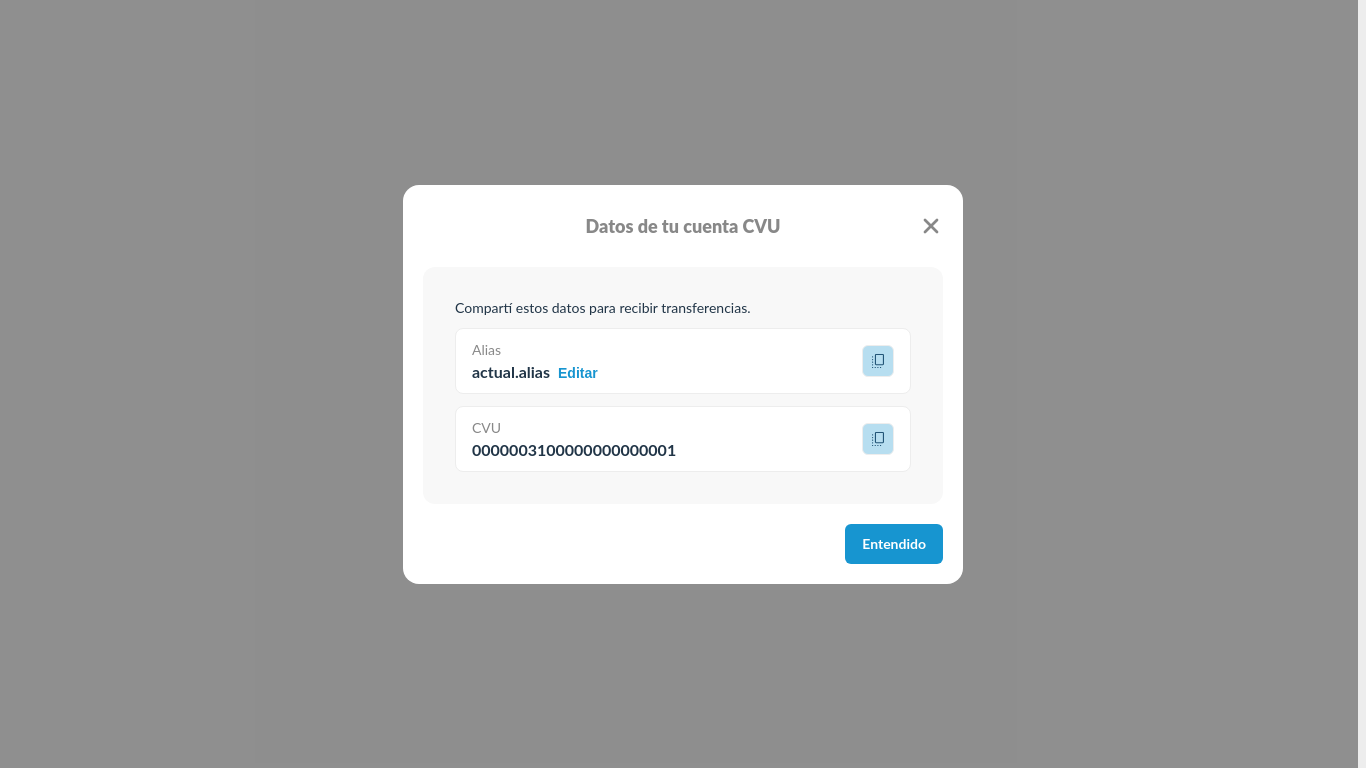
Scenario: AccountDetailsFlow › shows the API error and keeps the modal open
This screenshot has width=1366, height=768.
Click the button "Editar" at point(578, 372), box [558,364,598,380]
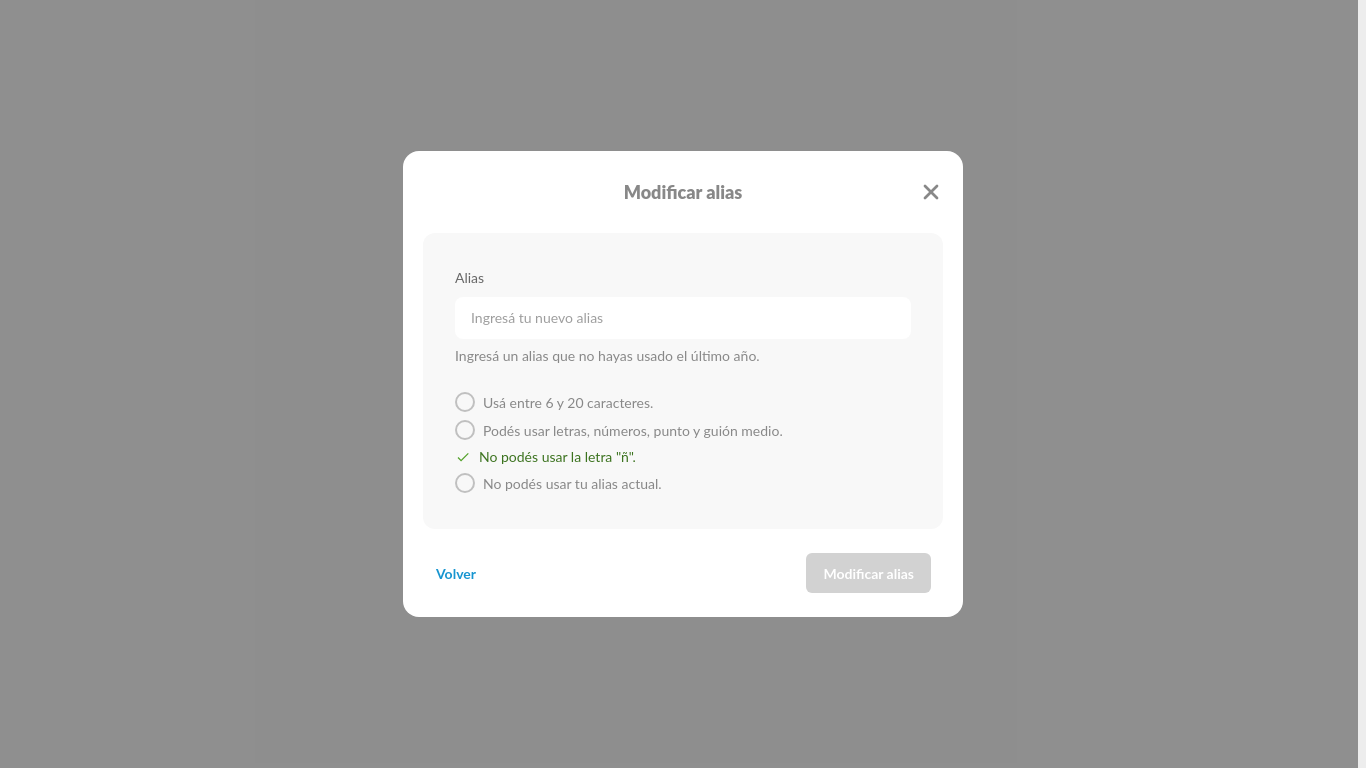
Type "otro.alias" into the field with placeholder "Ingresá tu nuevo alias" at point(683, 318), box [455,297,911,339]
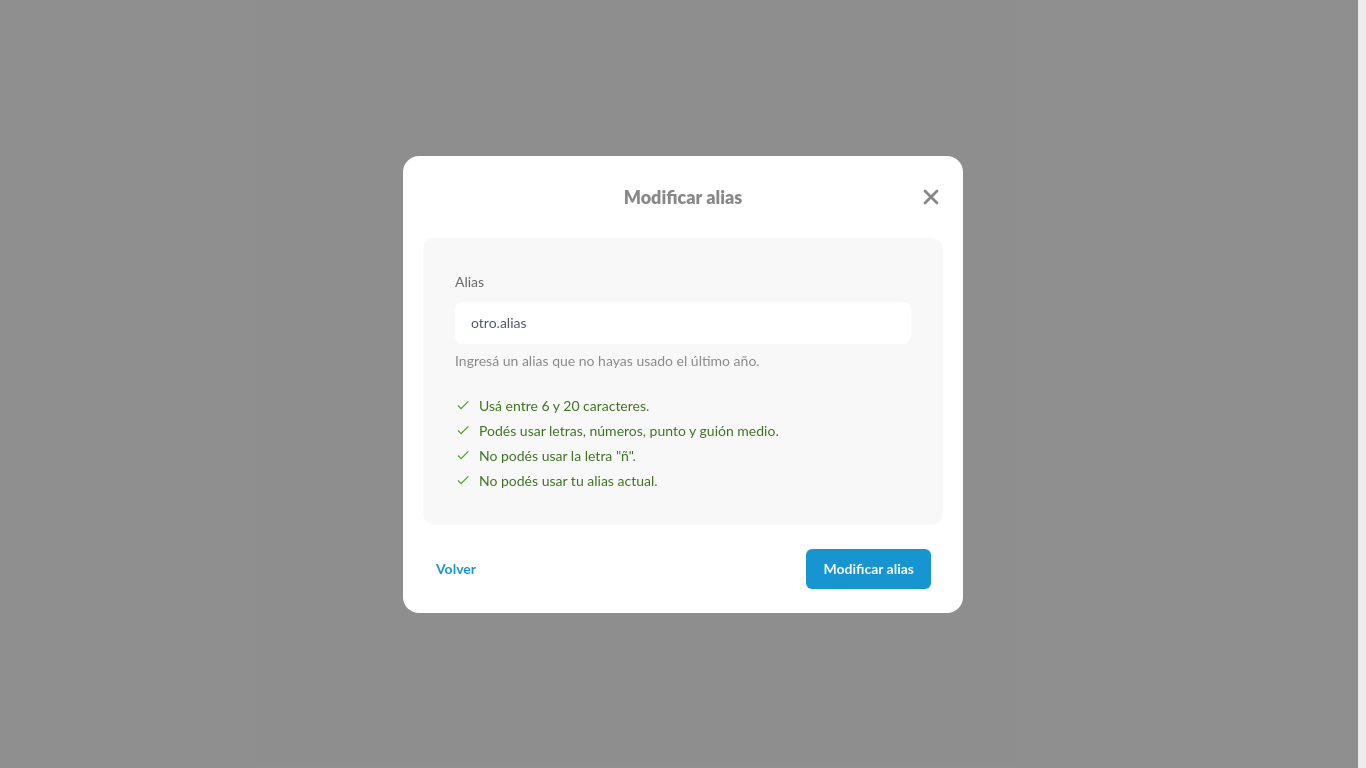
Result: the button "Modificar alias" is enabled
Click the button "Modificar alias" at point(869, 568), box [806,548,931,588]
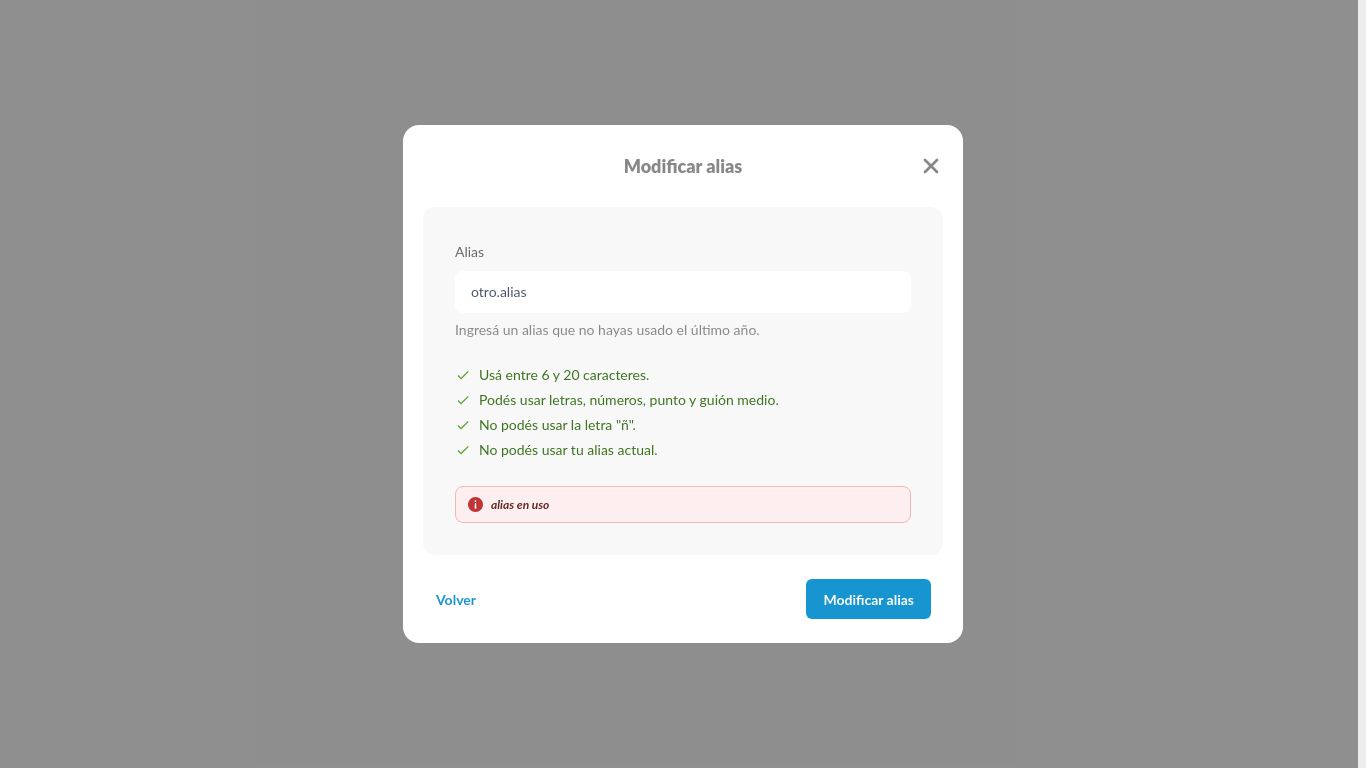
Result: the text "alias en uso" is shown at [491,497,549,512]
